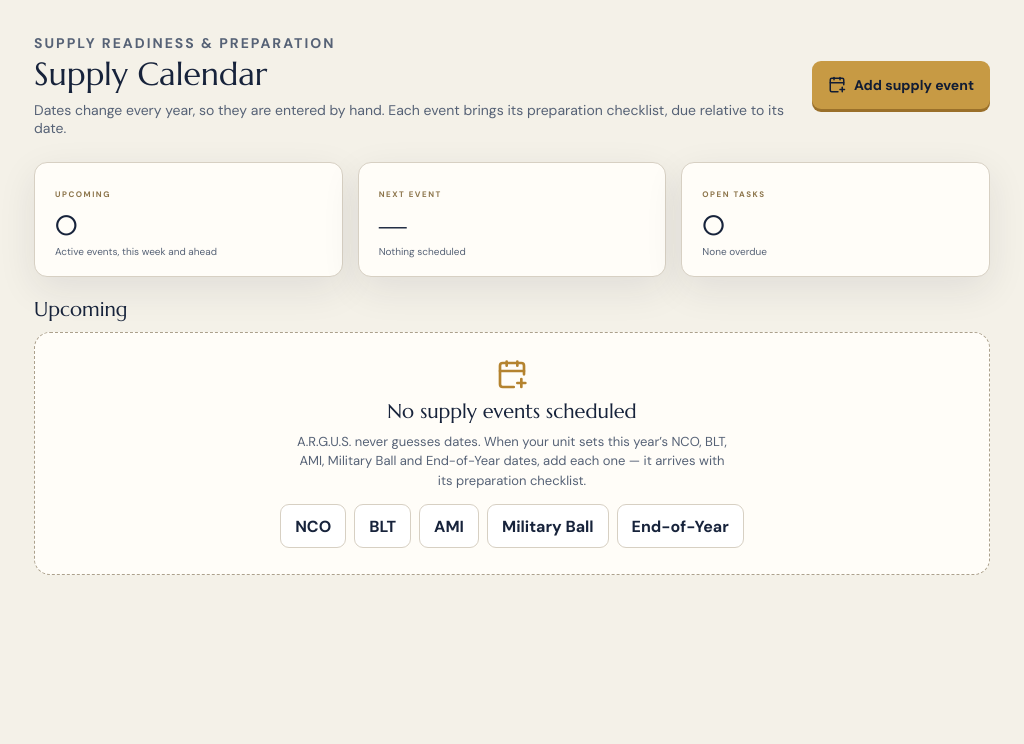
Test: Supply Calendar › keeps the add drawer open and shows the controller error inline when saving fails
Click the button "Add supply event": (901, 85) top-left (812, 61), bottom-right (990, 109)
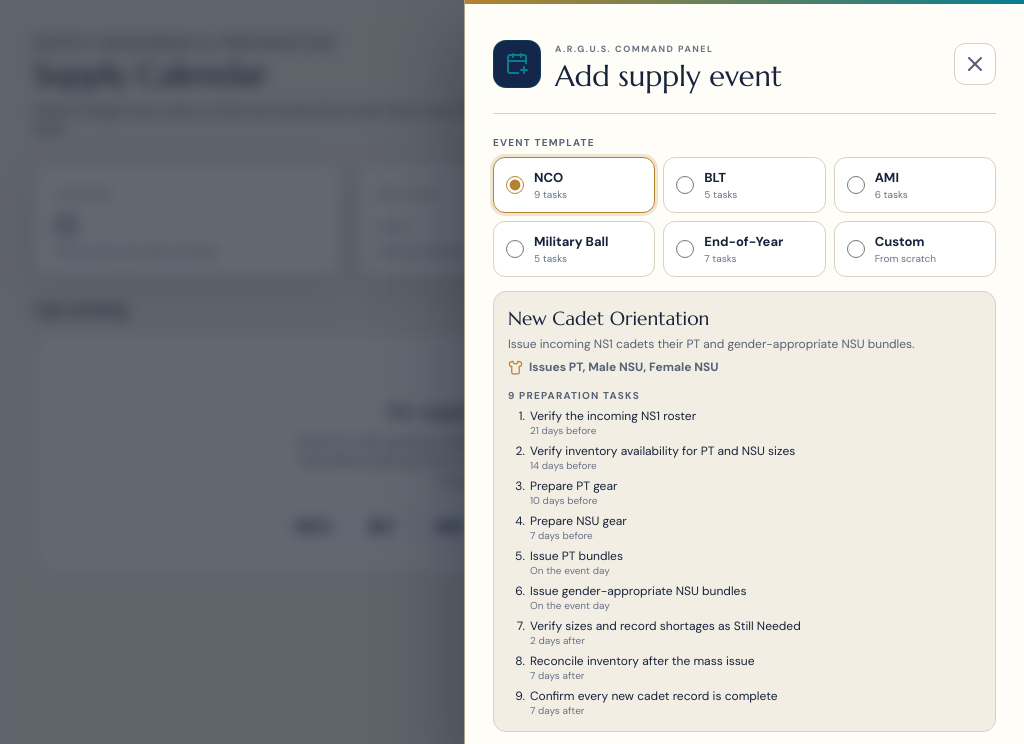
Click the radio button labelled "Custom From scratch": (856, 249) top-left (847, 240), bottom-right (865, 258)
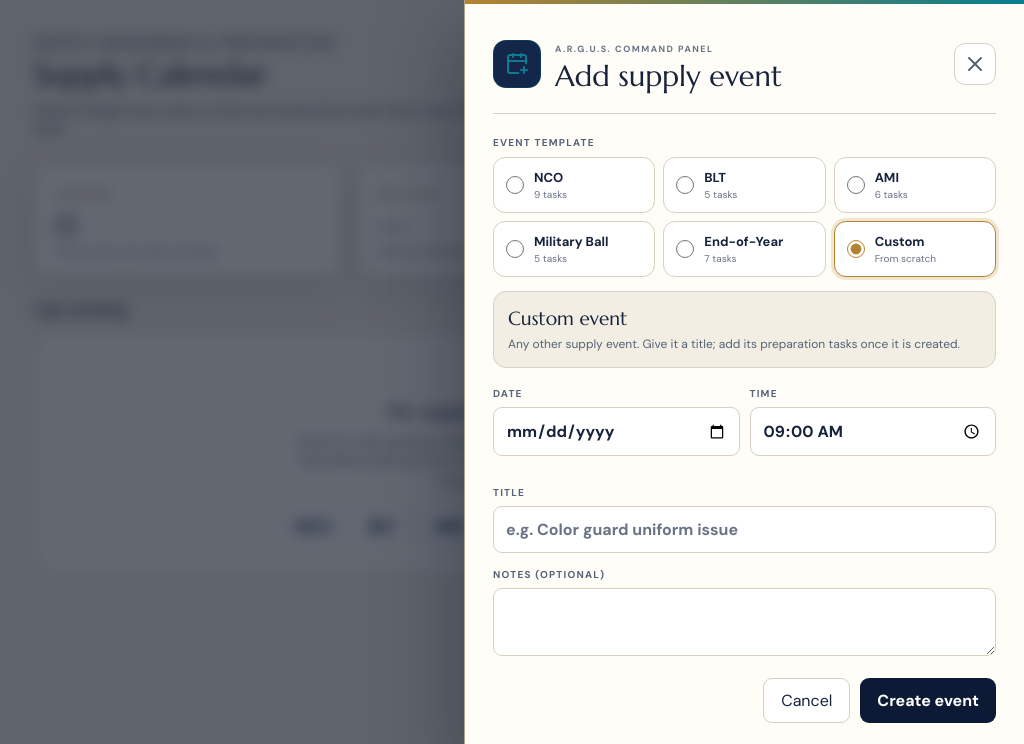
In the date field labelled "Date": (616, 432) top-left (493, 407), bottom-right (740, 456), type "2026-11-02"
Click the button "Create event": (928, 701) top-left (860, 678), bottom-right (996, 723)
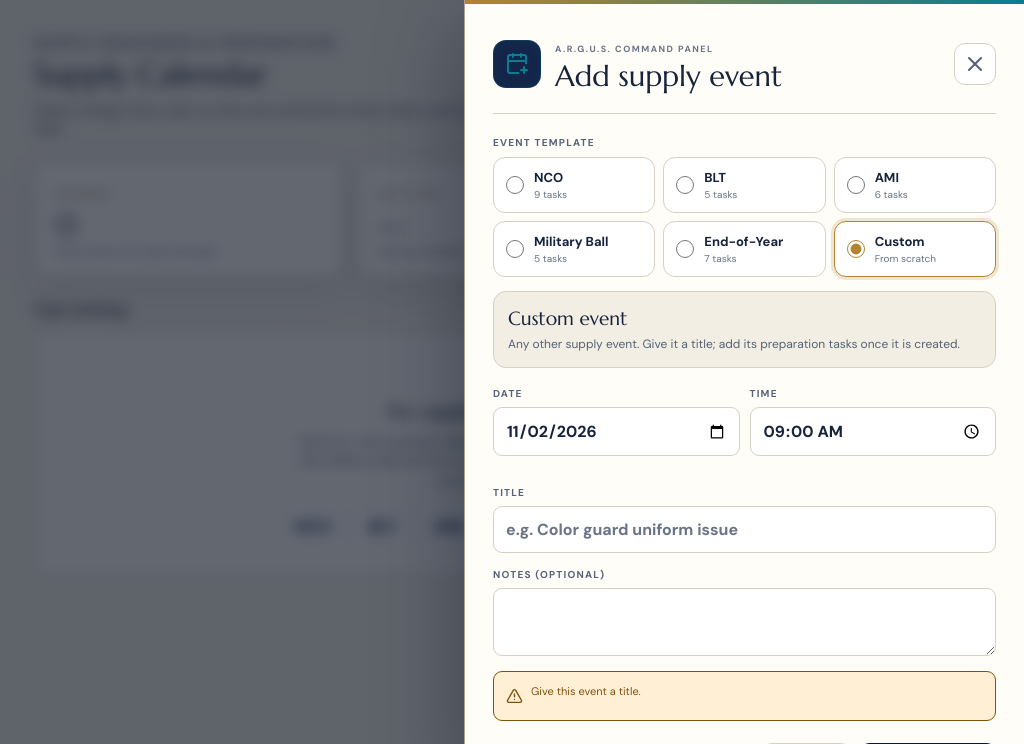
Check: the message reads "Give this event a title.", box top-left (531, 684), bottom-right (641, 698)
In the field labelled "Title": (744, 530) top-left (493, 506), bottom-right (996, 553), type "Color guard uniform issue"
(page scrolled)
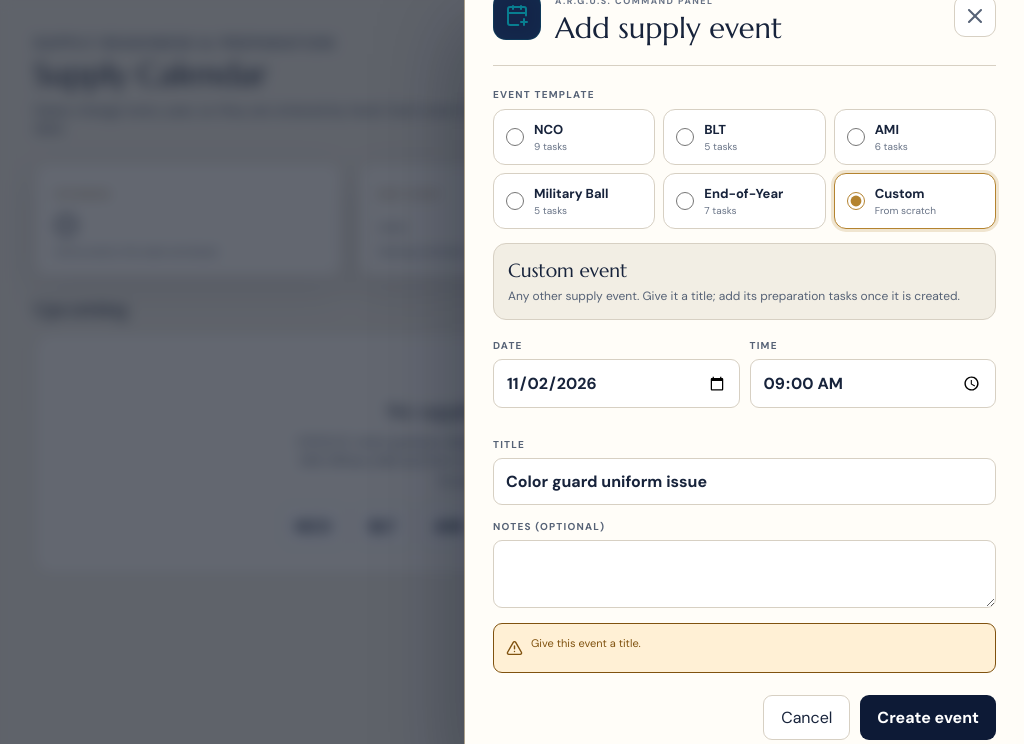
Click the button "Create event": (928, 718) top-left (860, 695), bottom-right (996, 740)
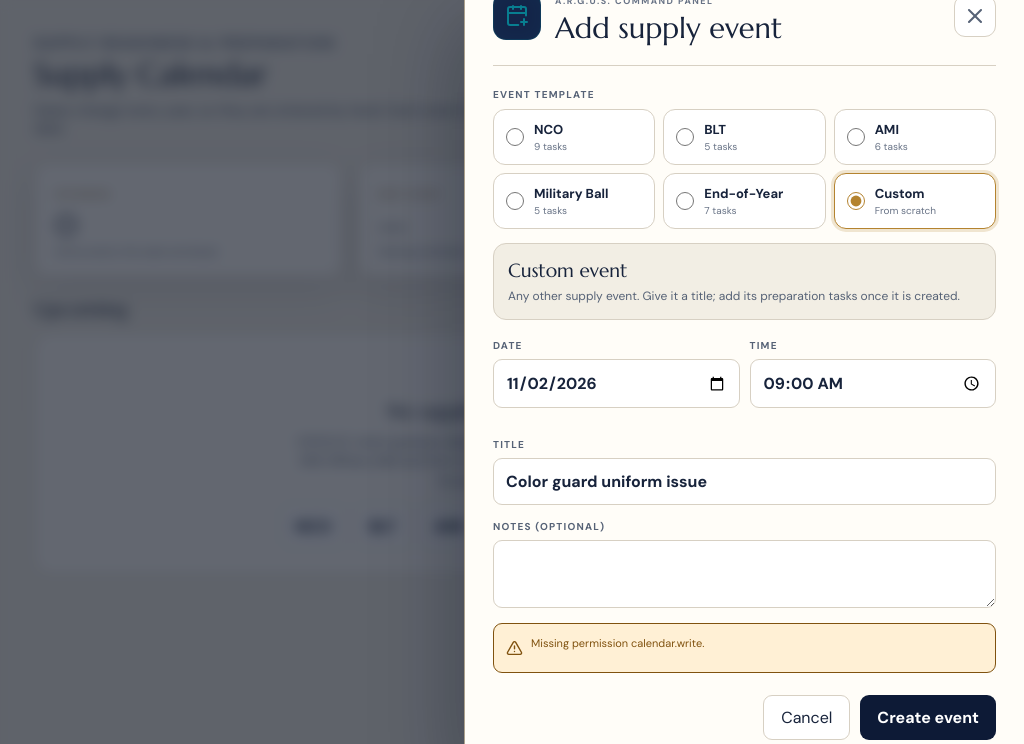
Check: the form named "Add supply event" is shown, box top-left (493, 88), bottom-right (996, 740)
Check: the text "Missing permission calendar.write." is shown, box top-left (531, 636), bottom-right (704, 652)
Click the button "Create event": (928, 718) top-left (860, 695), bottom-right (996, 740)
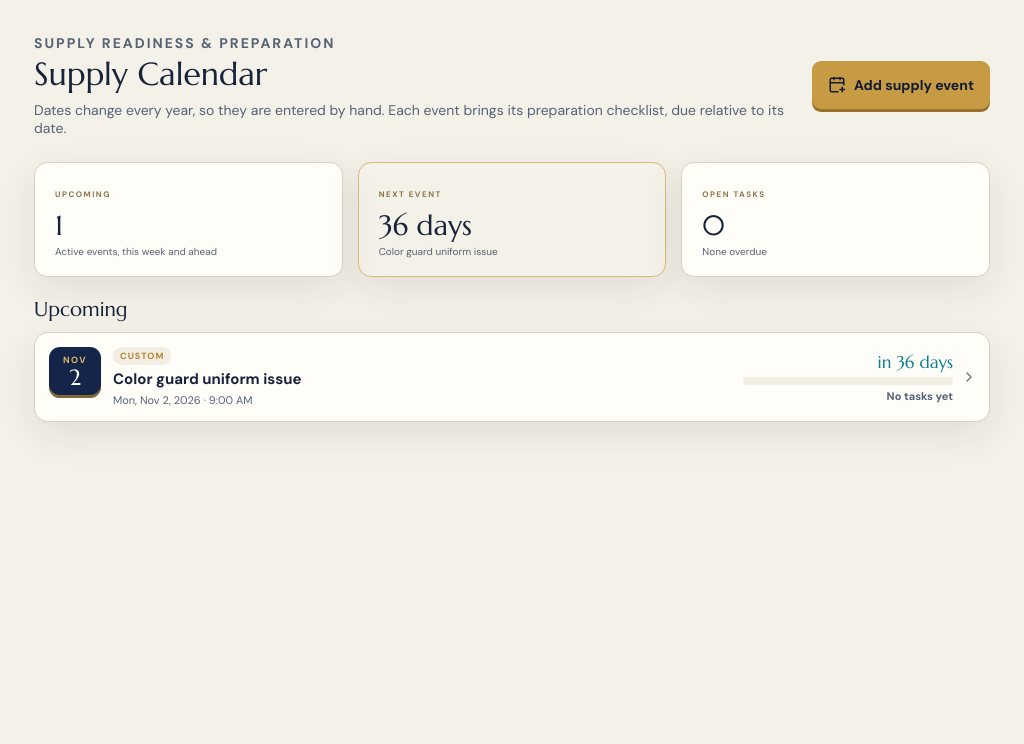
Check: the button "Color guard uniform issue" shows "No tasks yet", box top-left (34, 332), bottom-right (990, 422)
